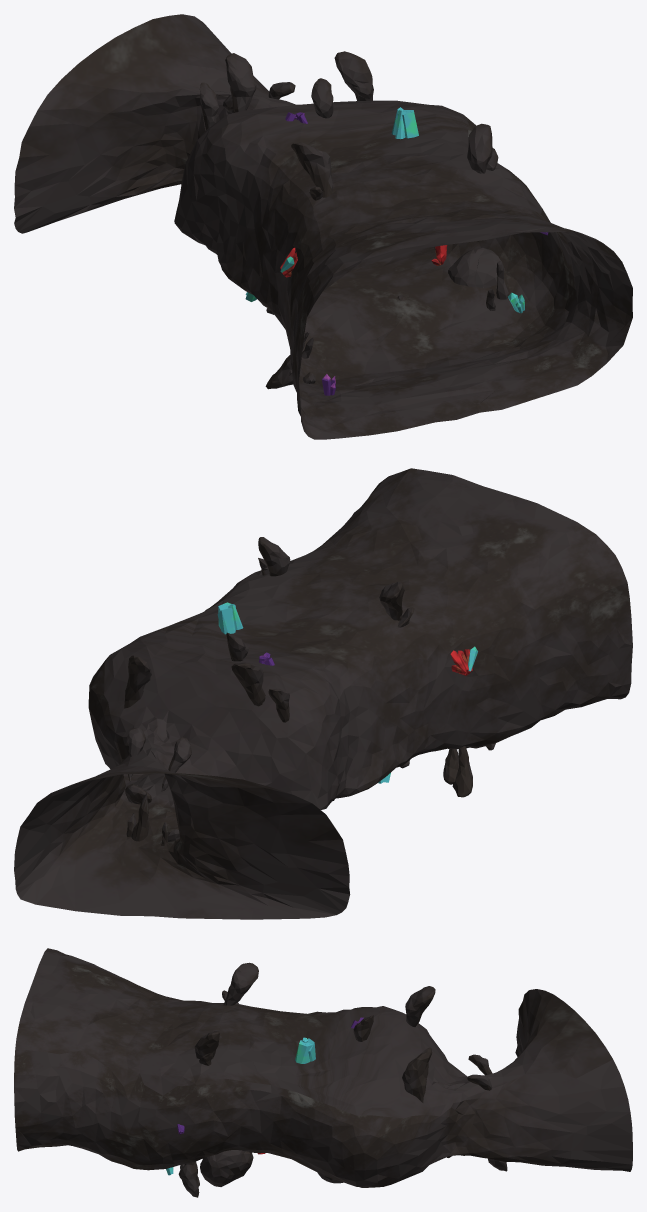
The model's file is cave3.fbx.
3 views of the same model, one above another, from view 1: azimuth 30°, elevation 25°; view 2: azimuth 150°, elevation 25°; view 3: azimuth 270°, elevation 25° (orthographic). The views are drawn at different scales.
Visible parts, largest first — view 1: Cave, Crystals; view 2: Cave, Crystals; view 3: Cave, Crystals.
Part boxes in pixels (bbox=[...]): Cave: bbox=[14, 14, 632, 439]; Crystals: bbox=[245, 107, 548, 395]; Cave: bbox=[14, 468, 632, 919]; Crystals: bbox=[217, 602, 477, 783]; Cave: bbox=[14, 948, 632, 1197]; Crystals: bbox=[166, 1017, 363, 1175].
Bounding box in the file's own units: 4564 × 2615 × 8347.
